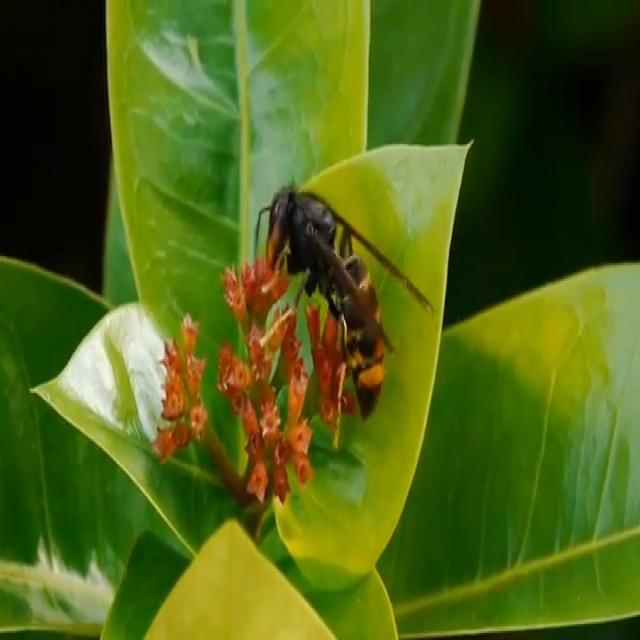Hornets: (251, 176, 437, 425)
